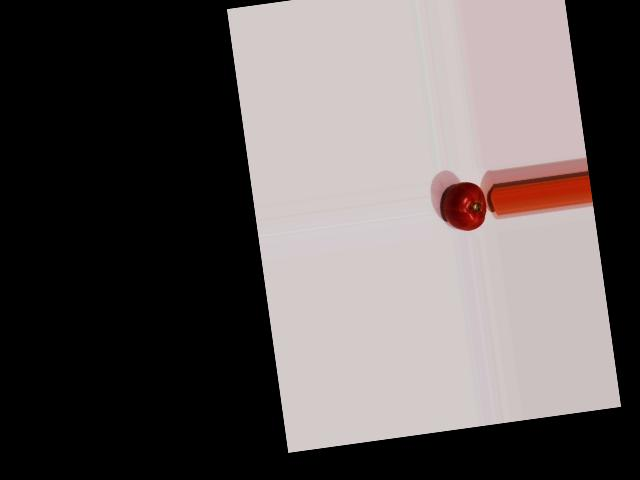tomato: (440, 180, 488, 233)
